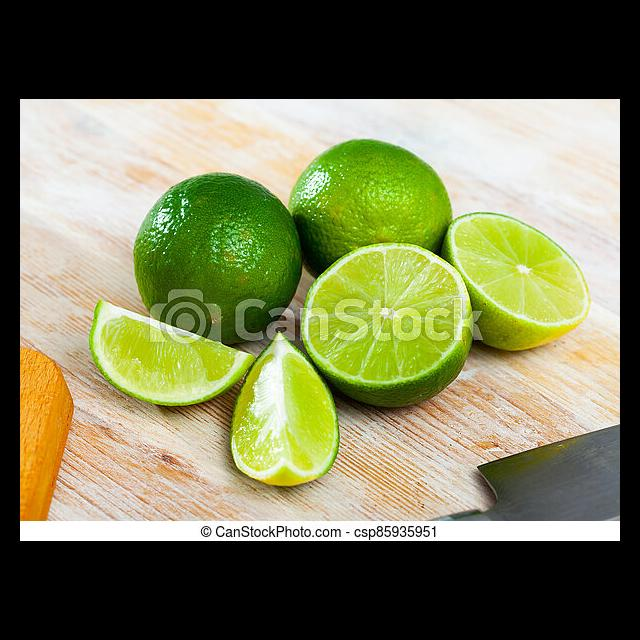lime: (129, 168, 306, 360), (281, 132, 461, 307)
